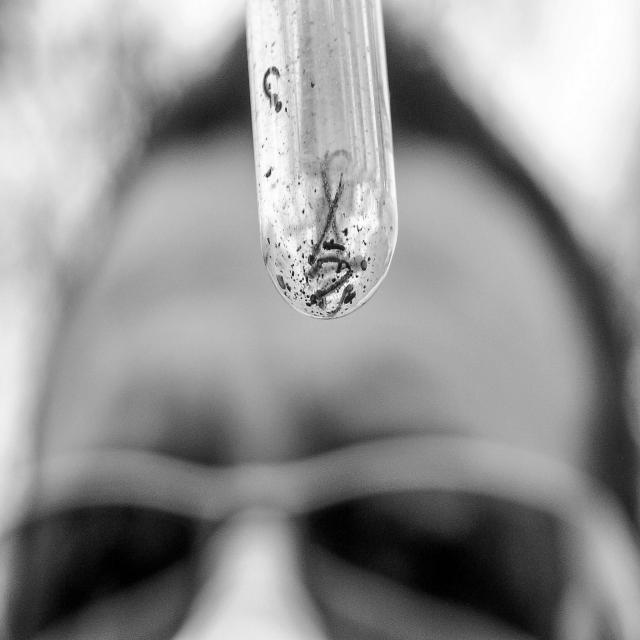larvas: (307, 174, 351, 266), (262, 66, 284, 112), (309, 277, 338, 304), (322, 149, 353, 171), (314, 256, 351, 270), (339, 286, 355, 314), (319, 254, 349, 268), (322, 175, 332, 208), (352, 253, 366, 275)
